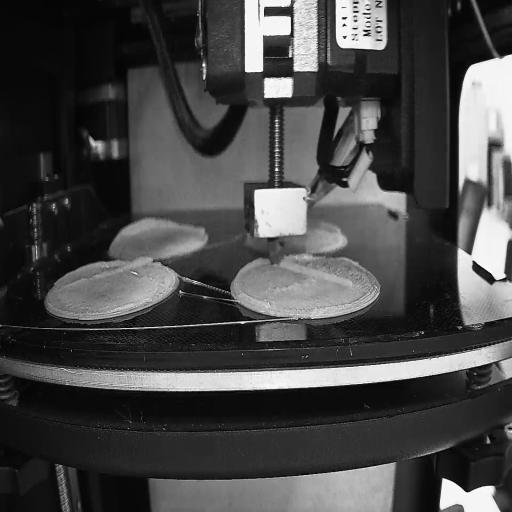over_extrusion: (109, 212, 207, 247), (65, 254, 152, 289), (282, 257, 352, 287), (308, 217, 342, 238)
